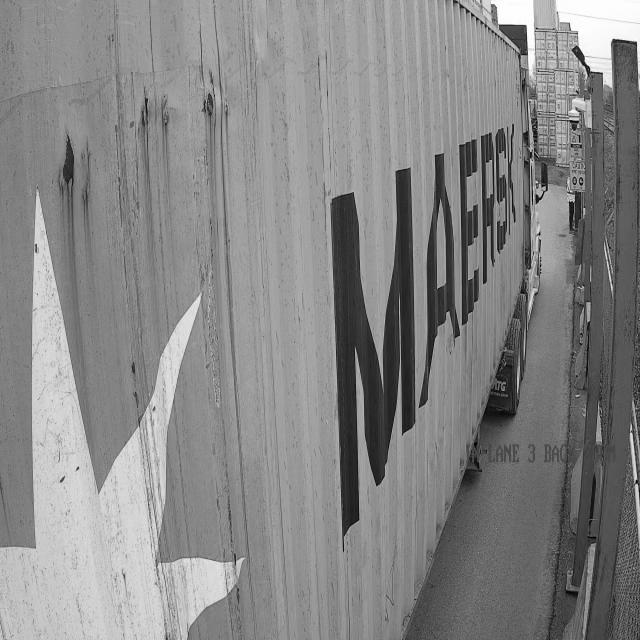container_company_logo: (331, 168, 416, 532), (418, 116, 521, 406)
driver: (560, 153, 580, 241)
truck_with_container: (0, 0, 540, 639)
